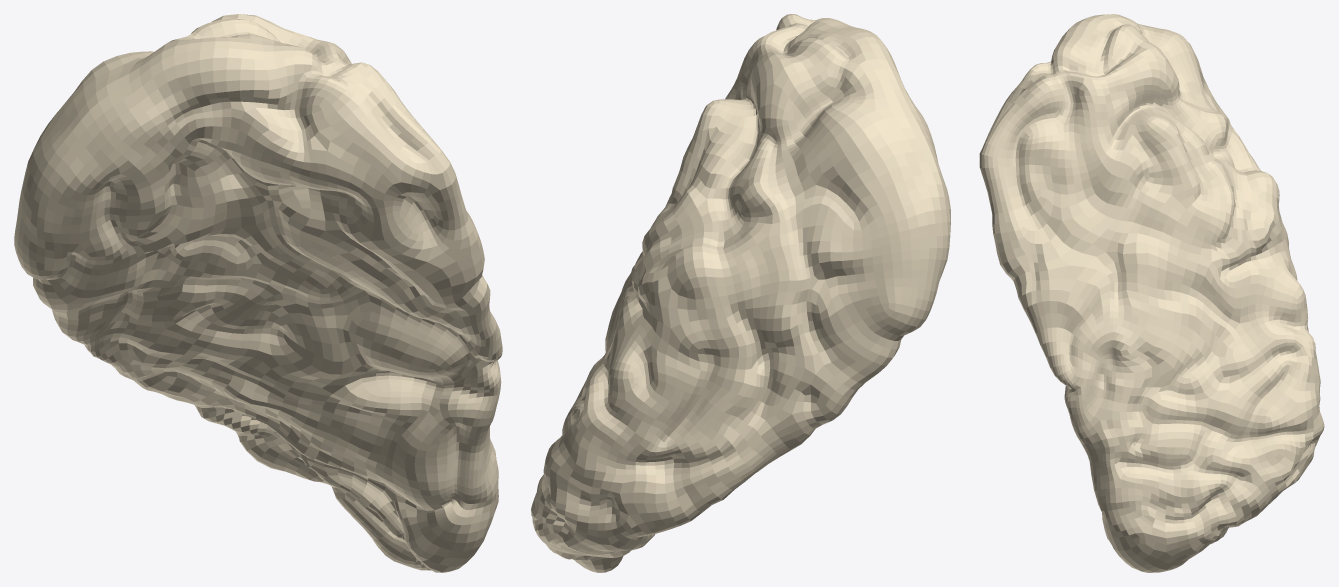
The model's file is 3d-vh-f-palatine-tonsil-l.glb.
3 renders of one model, left to right at view 1: azimuth 30°, elevation 25°; view 2: azimuth 150°, elevation 25°; view 3: azimuth 270°, elevation 25°, orthographic. The views are drawn at different scales.
Parts seen in each view (by area): view 1: VH_F_palatine_tonsil_L; view 2: VH_F_palatine_tonsil_L; view 3: VH_F_palatine_tonsil_L.
Part boxes in pixels (left/top/right/bottom): VH_F_palatine_tonsil_L: left=14, top=14, right=502, bottom=572; VH_F_palatine_tonsil_L: left=531, top=14, right=950, bottom=572; VH_F_palatine_tonsil_L: left=979, top=14, right=1324, bottom=572.
Bounding box in the file's own units: 0.0196 × 0.0263 × 0.0179.
